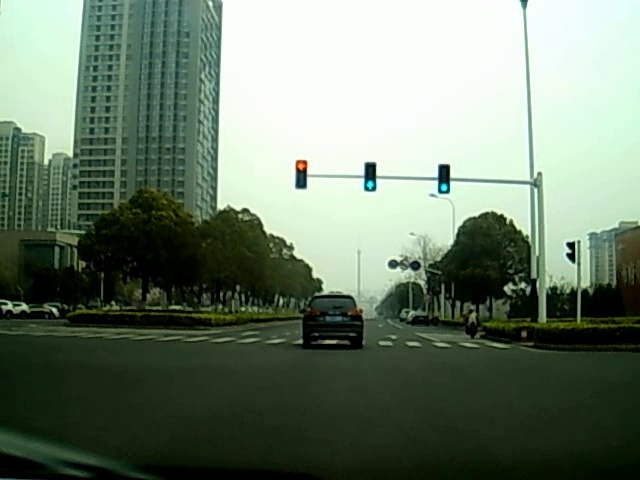Traffic_Light_go: (366, 162, 376, 193), (439, 164, 448, 194)
Traffic_Light_stop: (296, 160, 306, 189)
